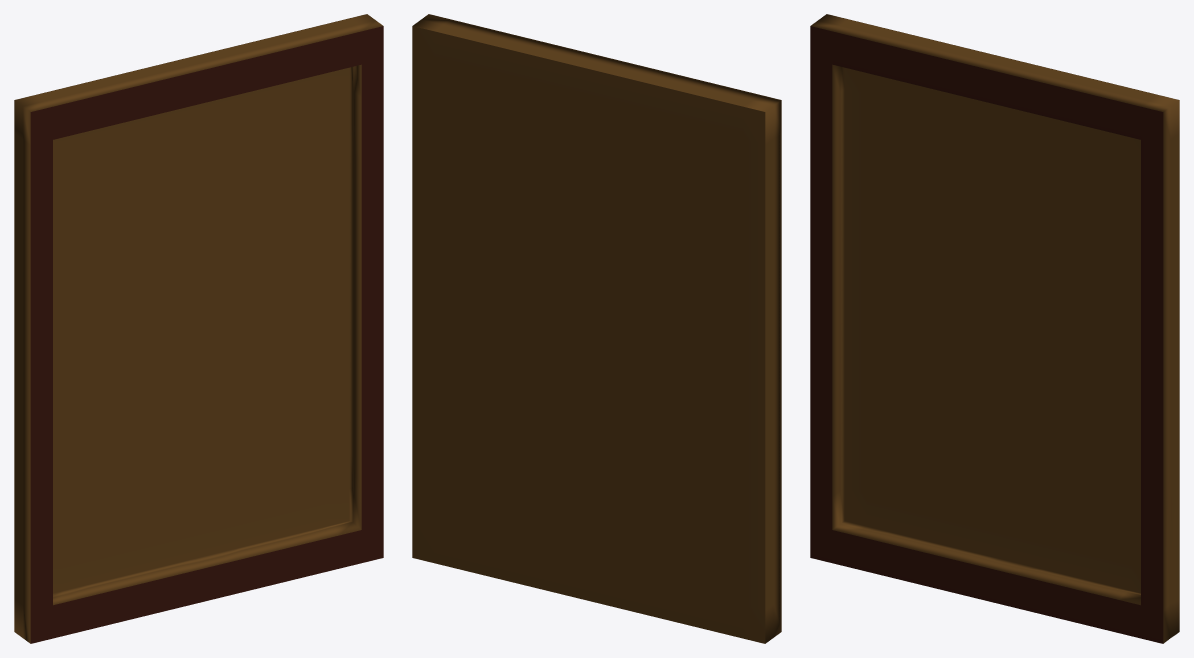
The model's file is frame.fbx.
The picture shows the model from 3 angles, left to right: view 1: azimuth 30°, elevation 25°; view 2: azimuth 150°, elevation 25°; view 3: azimuth 330°, elevation 25°; orthographic projection.
Parts seen in each view (by area): view 1: frame; view 2: frame; view 3: frame.
Part boxes in pixels (bbox=[...]): frame: bbox=[14, 14, 383, 643]; frame: bbox=[412, 14, 781, 643]; frame: bbox=[810, 14, 1179, 643].
Size of the model in its own units: 713 by 1027 by 57.49.
